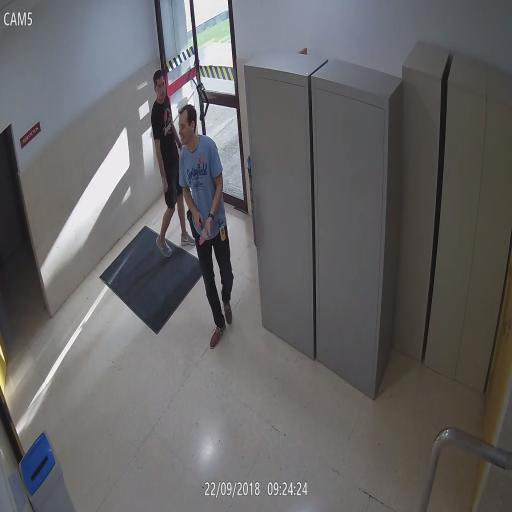Handgun: (185, 208, 195, 240)
